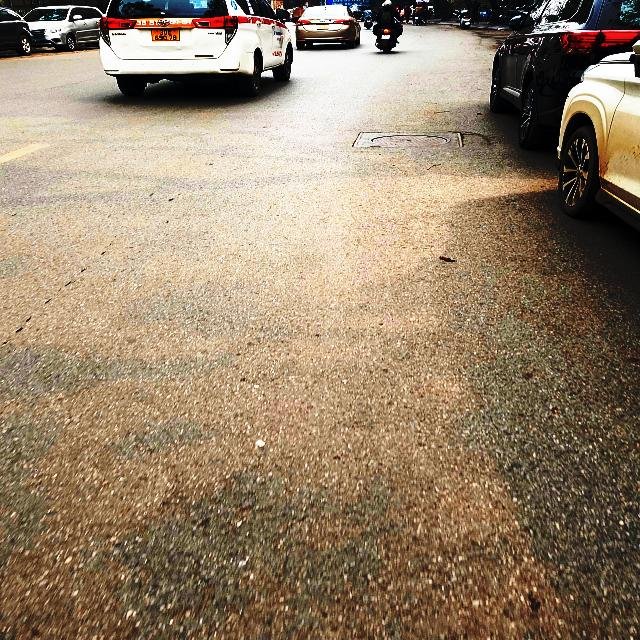license_plate: (152, 30, 181, 42)
